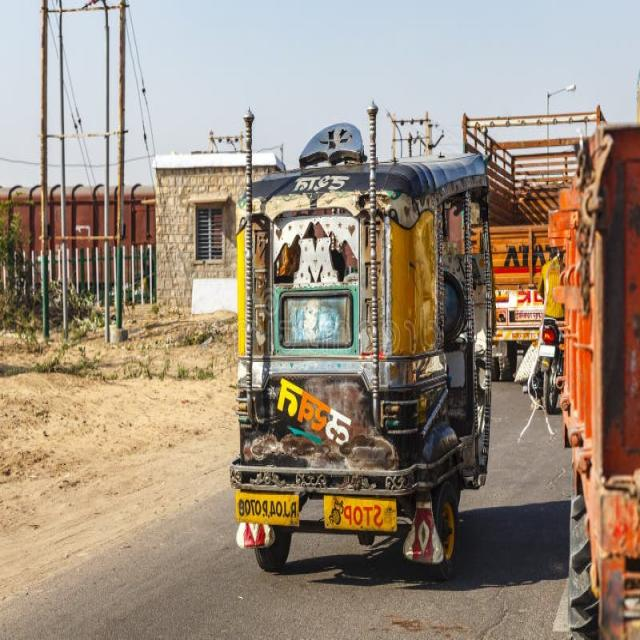autorickshaw: (231, 124, 494, 577)
